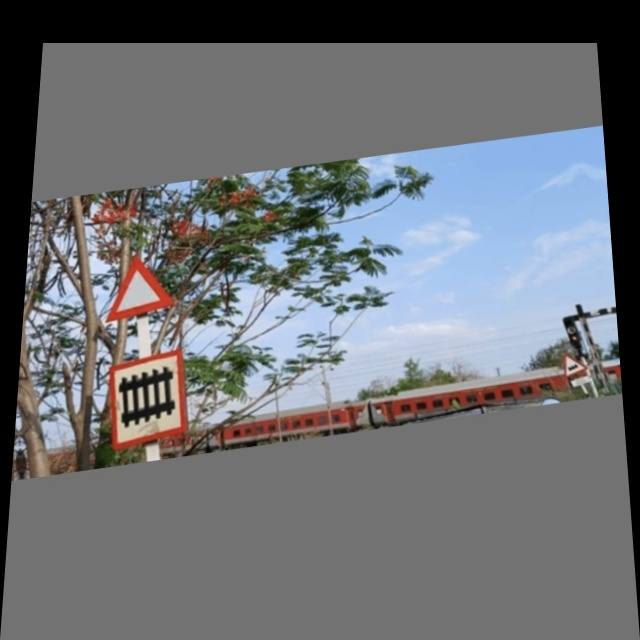Guarded_Level_Crossing: (98, 339, 198, 446)
